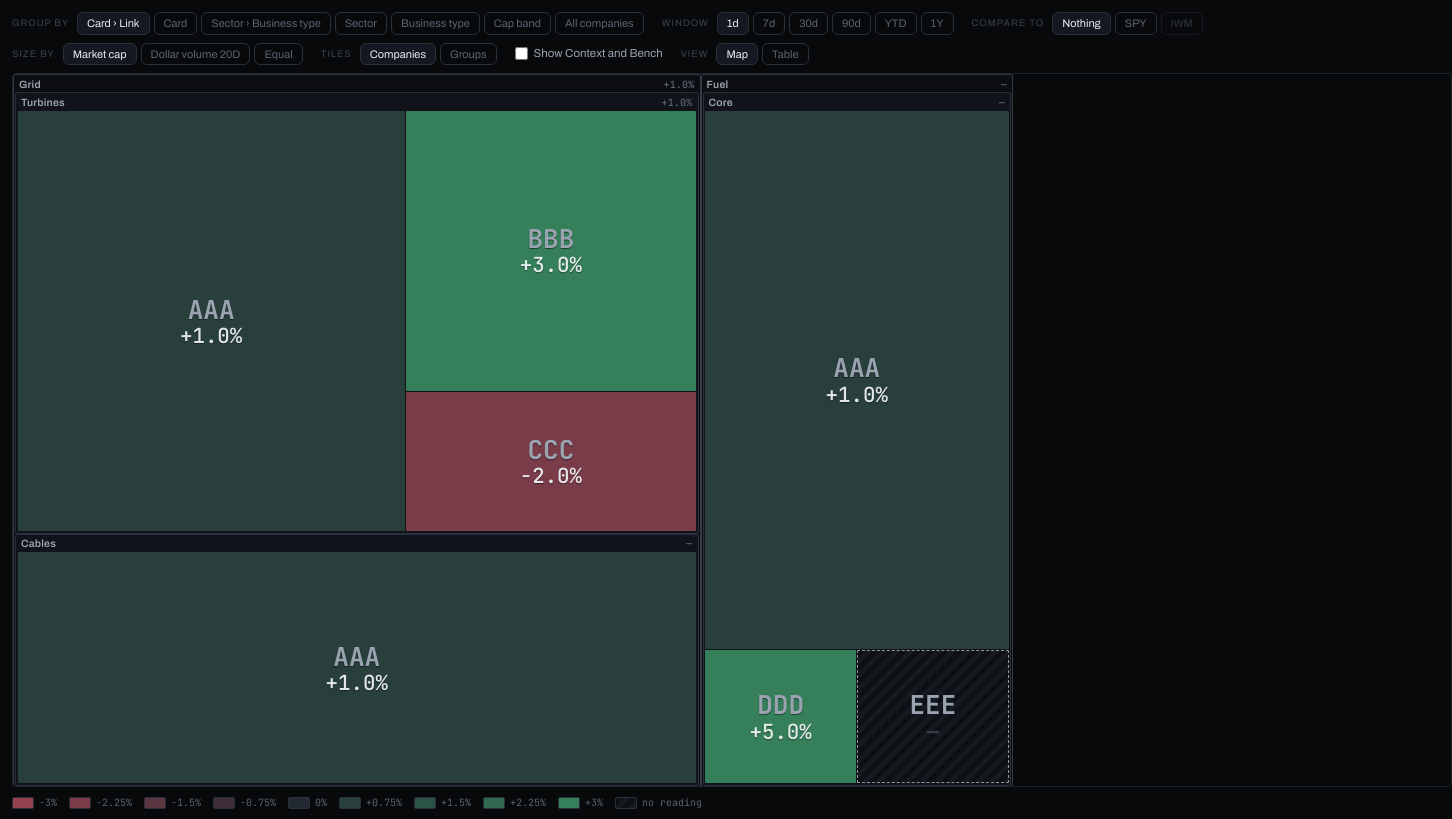
the controls › Compare to subtracts the benchmark's own return for the window, and says so
Expected: the text "+3.0%" is shown, x1=518 y1=254 x2=584 y2=277
Click the button "SPY" at (1136, 23), box x1=1115 y1=12 x2=1157 y2=34
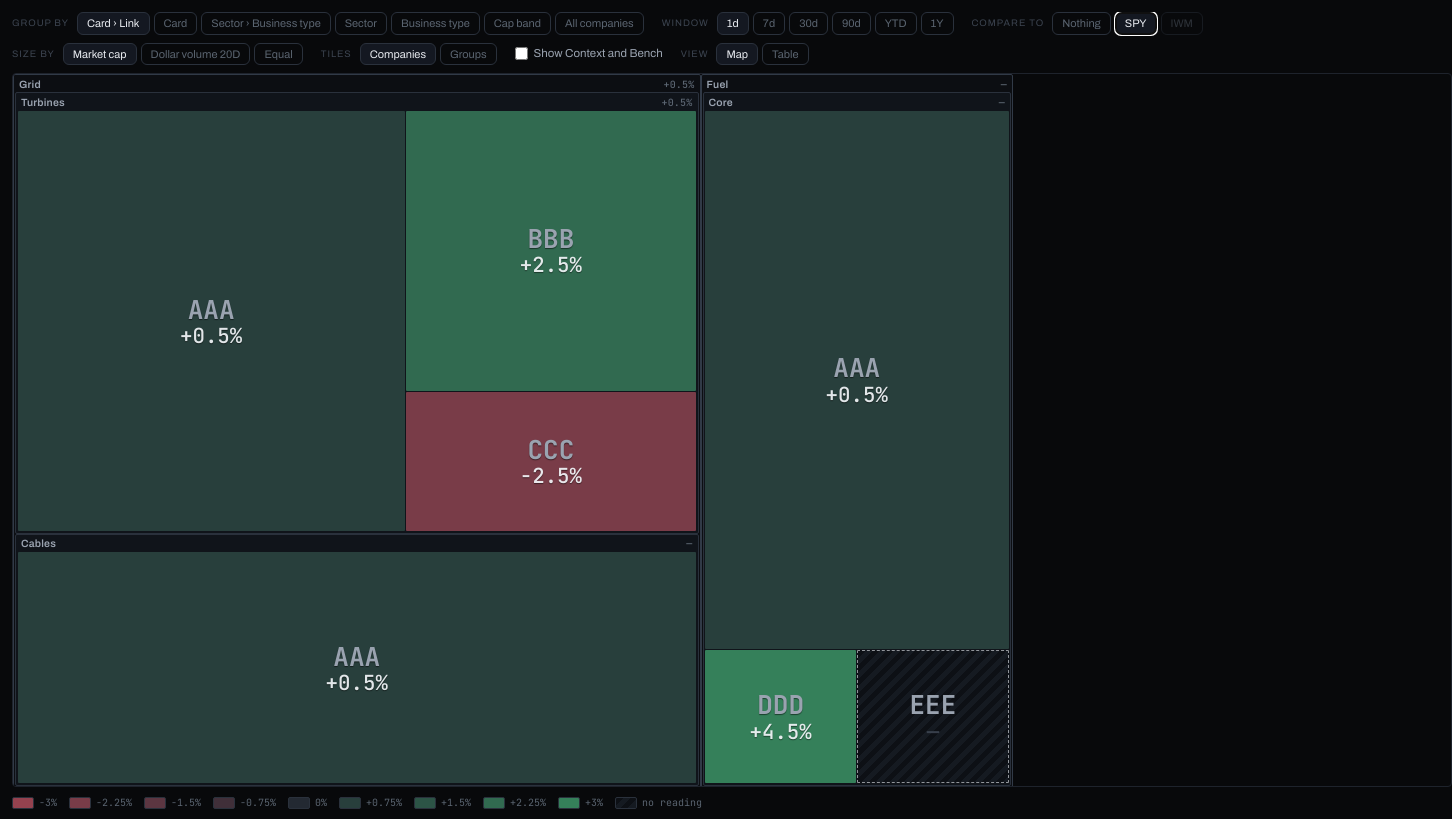
Expected: the text "+2.5%" is shown, x1=518 y1=254 x2=584 y2=277
Click the button "YTD" at (896, 23), box x1=875 y1=12 x2=916 y2=34
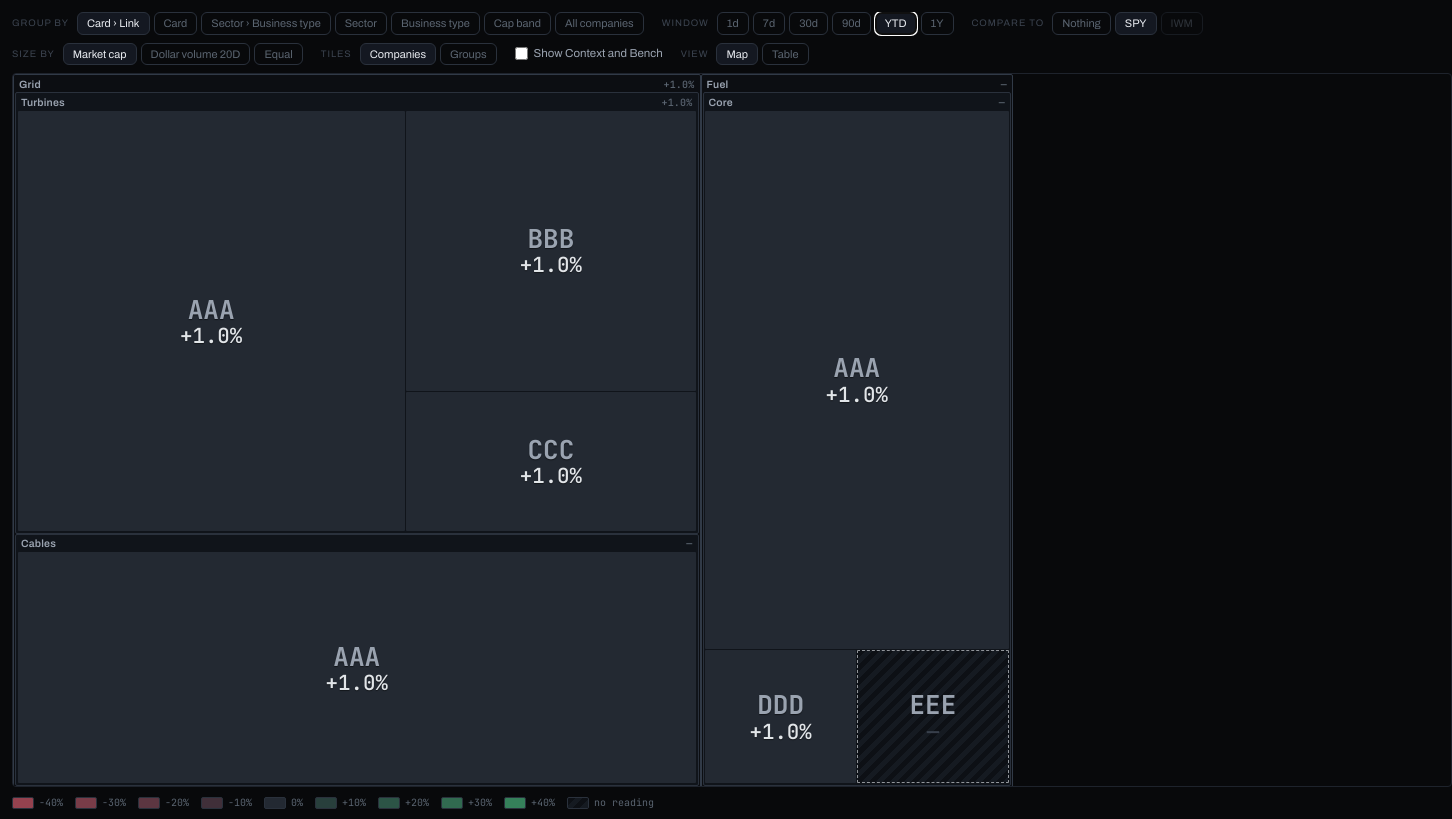
Expected: the text "+1.0%" next to "BBB" is shown, x1=520 y1=252 x2=582 y2=278
